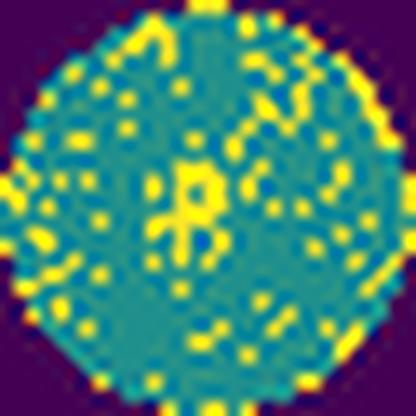Center: (145, 161, 229, 272)
